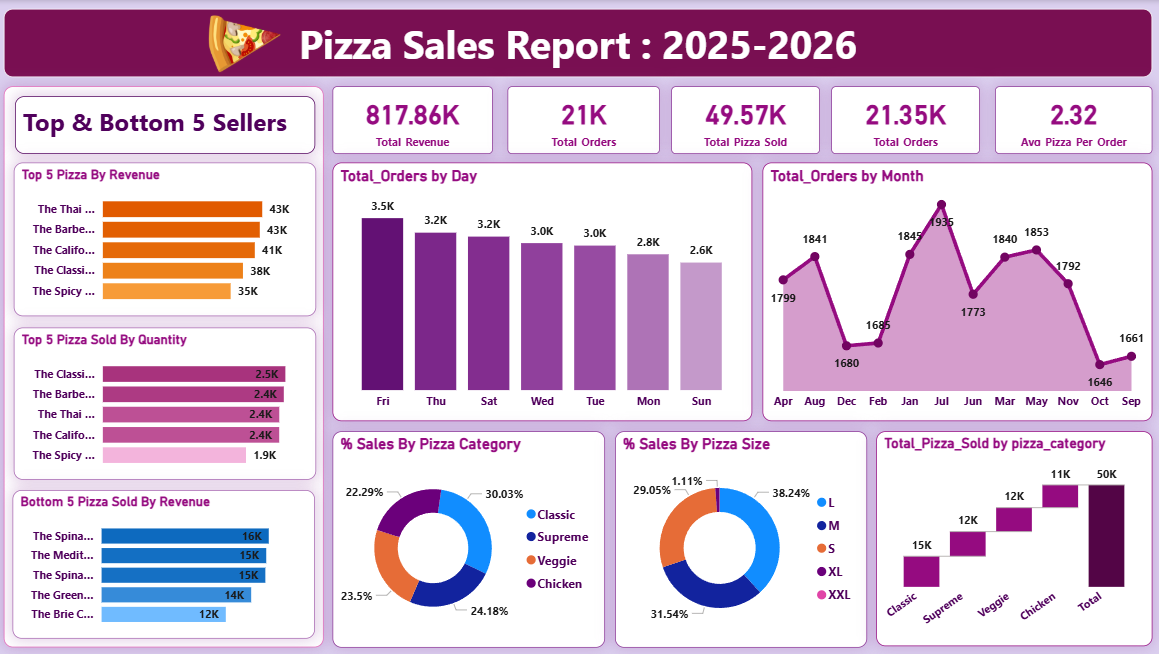

This screenshot's page, from the dashboard's own definition file:
{"tool":"powerbi","page":{"name":"Page 1","canvas":[1280,720],"ordinal":0},"visuals":[{"type":"textbox","box":[9.6,9.6,1261.1,75.5],"z":0},{"type":"textbox","box":[9.6,94.7,351.3,616.1],"z":1000},{"type":"textbox","box":[22,105.7,329.3,63.1],"z":2000},{"type":"clusteredBarChart","title":"Top 5 Pizza By Revenue","fields":{"Category":["pizza_sales.pizza_name"],"Y":["pizza_sales.Total_Revenue"]},"box":[20.6,178.4,332.1,168.8],"z":3000},{"type":"clusteredBarChart","title":"Top 5 Pizza Sold By Quantity","fields":{"Category":["pizza_sales.pizza_name"],"Y":["pizza_sales.Total_Quantity"]},"box":[20.6,359.5,332.1,167.4],"z":4000},{"type":"clusteredBarChart","title":"Bottom 5 Pizza Sold By Revenue","fields":{"Category":["pizza_sales.pizza_name"],"Y":["pizza_sales.Total_Revenue"]},"box":[19.2,537.9,332.1,163.3],"z":5000},{"type":"card","fields":{"Values":["pizza_sales.Total_Revenue"]},"box":[370.5,94.7,175.6,74.1],"z":6000},{"type":"card","fields":{"Values":["pizza_sales.Total_Orders"]},"box":[562.6,94.7,167.4,74.1],"z":7000},{"type":"card","fields":{"Values":["pizza_sales.Total_Pizza_Sold"]},"box":[742.4,94.7,163.3,74.1],"z":8000},{"type":"card","fields":{"Values":["pizza_sales.Total_Orders"]},"box":[918,94.7,163.3,74.1],"z":9000},{"type":"card","fields":{"Values":["pizza_sales.Avg_Pizza_Per_Order"]},"box":[1097.8,94.7,172.9,74.1],"z":10000},{"type":"columnChart","title":"Total_Orders by Day ","fields":{"Category":["pizza_sales.Day Short"],"Y":["pizza_sales.Total_Orders"]},"box":[370.5,178.4,461.1,284],"z":11000},{"type":"areaChart","title":"Total_Orders by Month ","fields":{"Category":["pizza_sales.Month Short"],"Y":["pizza_sales.Total_Orders"]},"box":[842.5,178.4,428.1,284],"z":12000},{"type":"donutChart","title":"% Sales By Pizza Category","fields":{"Category":["pizza_sales.pizza_category"],"Y":["pizza_sales.Total_Pizza_Sold"]},"box":[370.5,473.4,299.1,237.4],"z":13000},{"type":"donutChart","title":"% Sales By Pizza Size","fields":{"Category":["pizza_sales.pizza_size"],"Y":["pizza_sales.Total_Pizza_Sold"]},"box":[680.6,473.4,277.2,237.4],"z":14000},{"type":"waterfallChart","fields":{"Category":["pizza_sales.pizza_category"],"Y":["pizza_sales.Total_Pizza_Sold"]},"box":[967.4,473.4,303.3,236],"z":15000},{"type":"image","box":[89.2,16.5,369.1,63.1],"z":16000}]}

Visuals, with their boxes in screenshot pixels (x1, y1, x2, y2), scaled from the page's 1280x720 canvas onto the 1159x654 screenshot:
textbox: Rect(9, 9, 1151, 77)
textbox: Rect(9, 86, 327, 646)
textbox: Rect(20, 96, 318, 153)
"Top 5 Pizza By Revenue" clusteredBarChart: Rect(19, 162, 319, 315)
"Top 5 Pizza Sold By Quantity" clusteredBarChart: Rect(19, 327, 319, 479)
"Bottom 5 Pizza Sold By Revenue" clusteredBarChart: Rect(17, 489, 318, 637)
card - pizza_sales.Total_Revenue: Rect(335, 86, 494, 153)
card - pizza_sales.Total_Orders: Rect(509, 86, 661, 153)
card - pizza_sales.Total_Pizza_Sold: Rect(672, 86, 820, 153)
card - pizza_sales.Total_Orders: Rect(831, 86, 979, 153)
card - pizza_sales.Avg_Pizza_Per_Order: Rect(994, 86, 1151, 153)
"Total_Orders by Day " columnChart: Rect(335, 162, 753, 420)
"Total_Orders by Month " areaChart: Rect(763, 162, 1150, 420)
"% Sales By Pizza Category" donutChart: Rect(335, 430, 606, 646)
"% Sales By Pizza Size" donutChart: Rect(616, 430, 867, 646)
waterfallChart - pizza_sales.pizza_category x pizza_sales.Total_Pizza_Sold: Rect(876, 430, 1151, 644)
image: Rect(81, 15, 415, 72)
